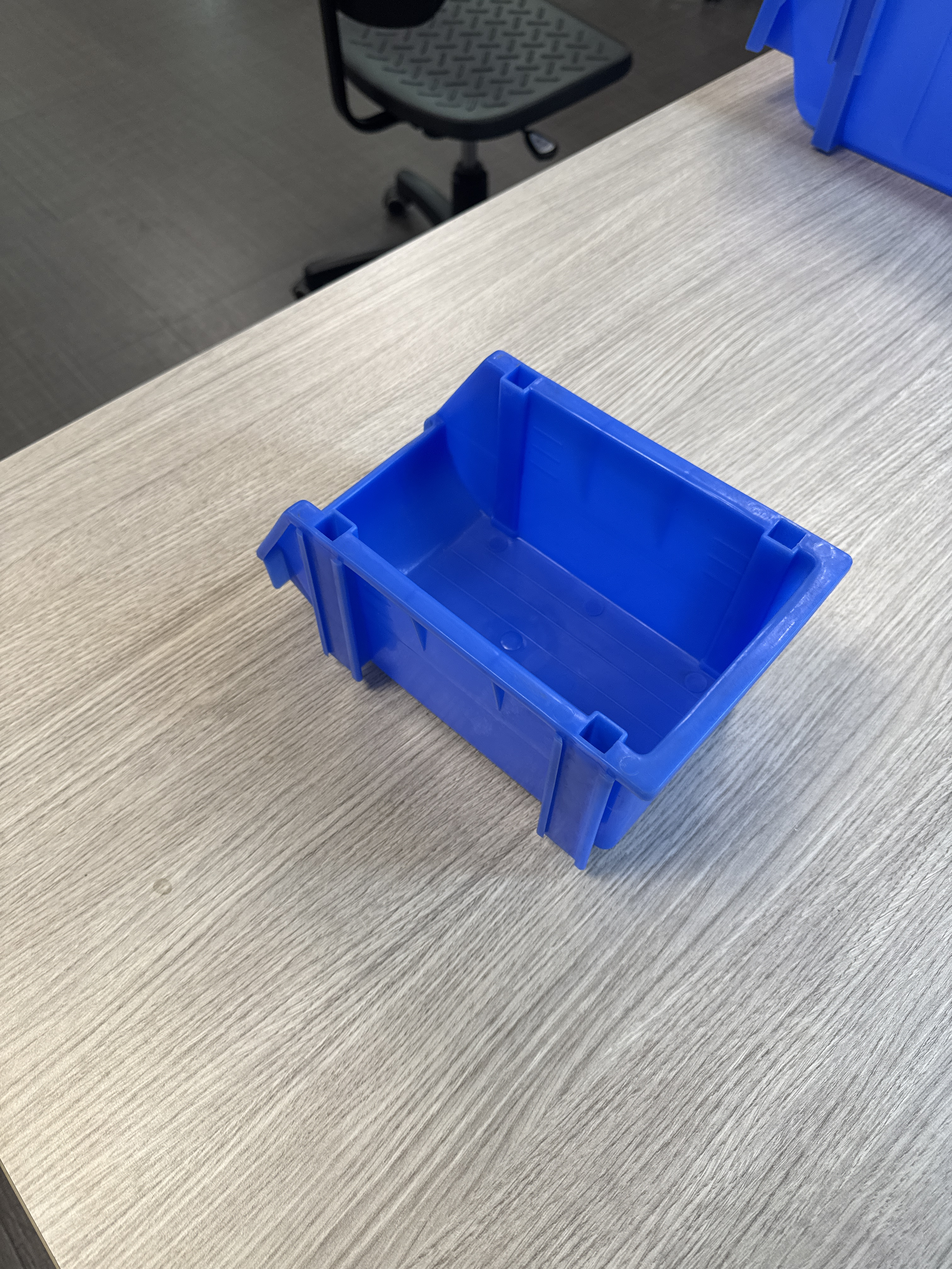Bin Boundary: (327, 317, 809, 763)
